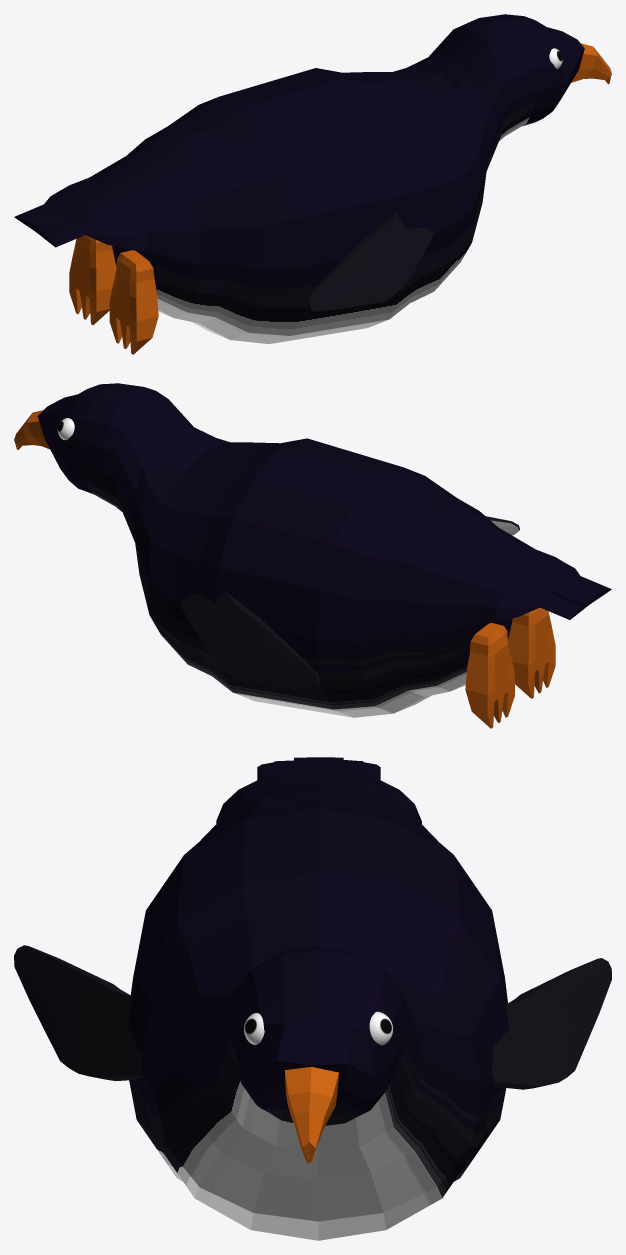
The model's file is GADE-Penguin slide game characters and objects POE TEMPSAVE.glb.
The picture shows the model from 3 angles, top to bottom: view 1: azimuth 30°, elevation 25°; view 2: azimuth 150°, elevation 25°; view 3: azimuth 270°, elevation 25°; orthographic projection. The views are drawn at different scales.
Parts seen in each view (by area): view 1: Penguin foot.001, Penguin Left wing.001; view 2: Penguin foot.001, Penguin Left wing; view 3: Penguin foot.001, Penguin Left wing.001, Penguin Left wing, Pengin eyes.
Part boxes in pixels (<box>): Penguin foot.001: <box>14,14,611,354</box>; Penguin Left wing.001: <box>307,213,434,311</box>; Penguin foot.001: <box>14,383,611,728</box>; Penguin Left wing: <box>180,591,319,690</box>; Penguin foot.001: <box>127,757,509,1240</box>; Penguin Left wing.001: <box>14,945,142,1080</box>; Penguin Left wing: <box>492,958,611,1089</box>; Pengin eyes: <box>244,1011,392,1045</box>.
Size of the model in its own units: 4.83 by 2.08 by 2.94.
3 materials, 3 textured.
